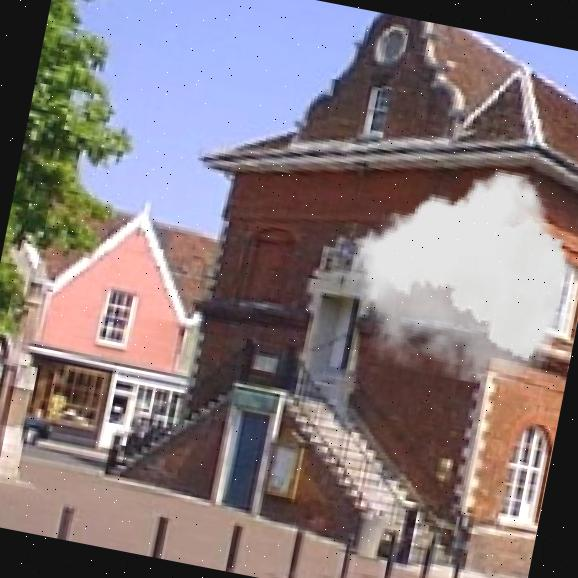smoke: (334, 145, 578, 398)
